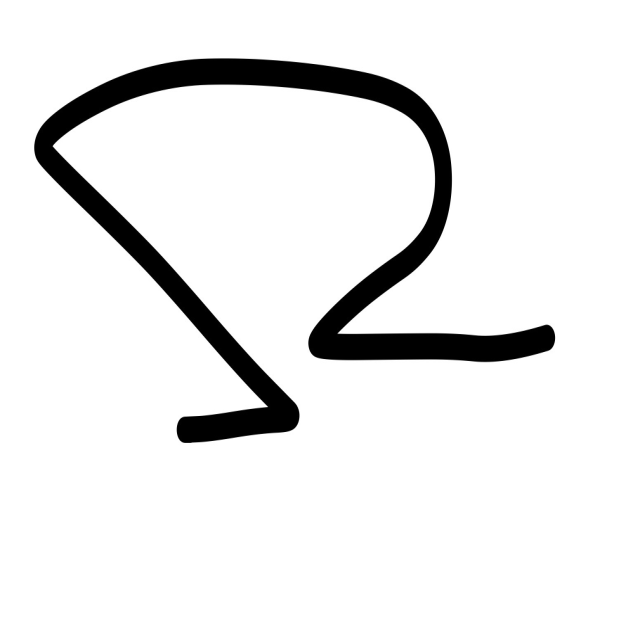ohms: (18, 19, 616, 546)
